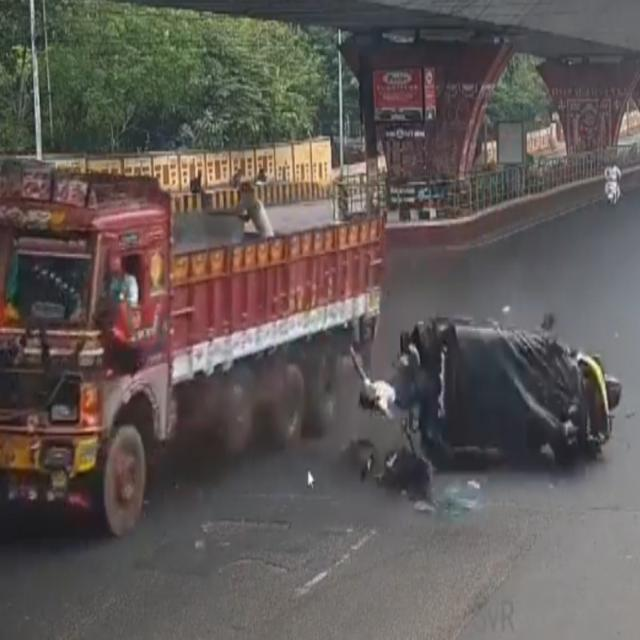accident: (396, 282, 630, 499), (361, 318, 621, 466)
truck: (0, 158, 385, 534)
